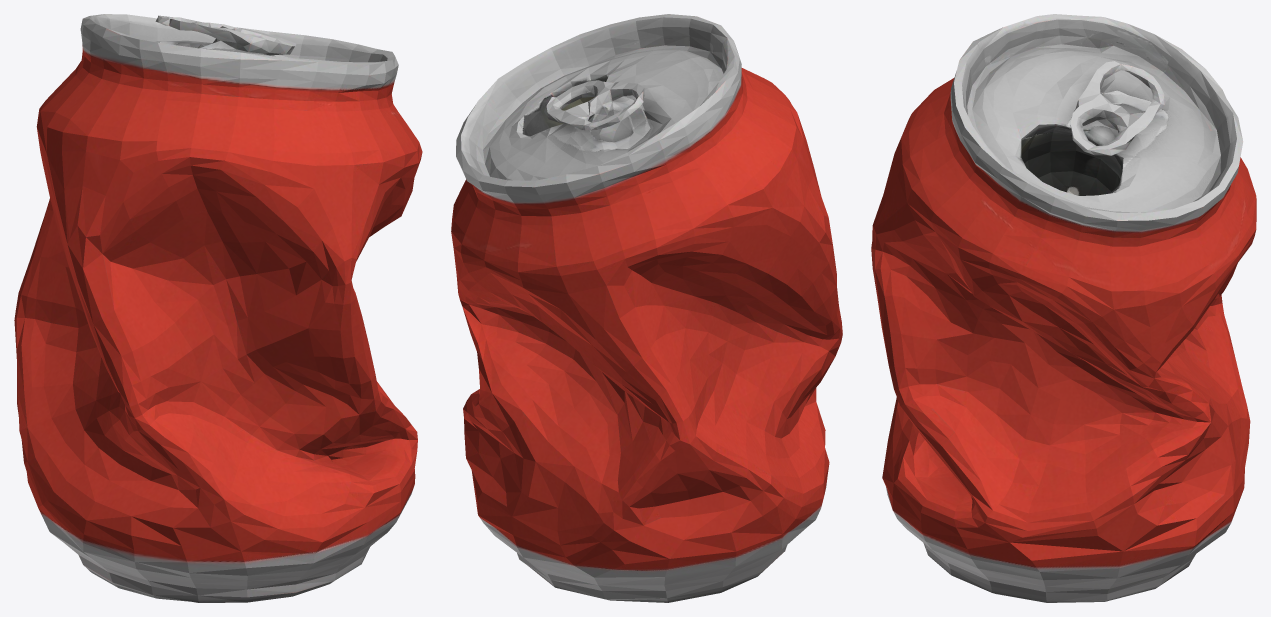
The model's file is tripo_convert_996a925d-f5a5-402f-b830-3a2e1e36e639.obj.
3 views of the same model, side by side, from view 1: azimuth 30°, elevation 25°; view 2: azimuth 150°, elevation 25°; view 3: azimuth 270°, elevation 25° (orthographic). The views are drawn at different scales.
Parts seen in each view (by area): view 1: tripo_node_996a925d-f5a5-402f-b830-3a2e1e36e639; view 2: tripo_node_996a925d-f5a5-402f-b830-3a2e1e36e639; view 3: tripo_node_996a925d-f5a5-402f-b830-3a2e1e36e639.
Part boxes in pixels (x1,y1,x2,y2): tripo_node_996a925d-f5a5-402f-b830-3a2e1e36e639: [14, 14, 422, 602]; tripo_node_996a925d-f5a5-402f-b830-3a2e1e36e639: [451, 14, 842, 602]; tripo_node_996a925d-f5a5-402f-b830-3a2e1e36e639: [871, 14, 1256, 602].
Bounding box in the file's own units: 0.6627 × 0.9744 × 0.6772.
Materials: 1 (1 with a texture image).
